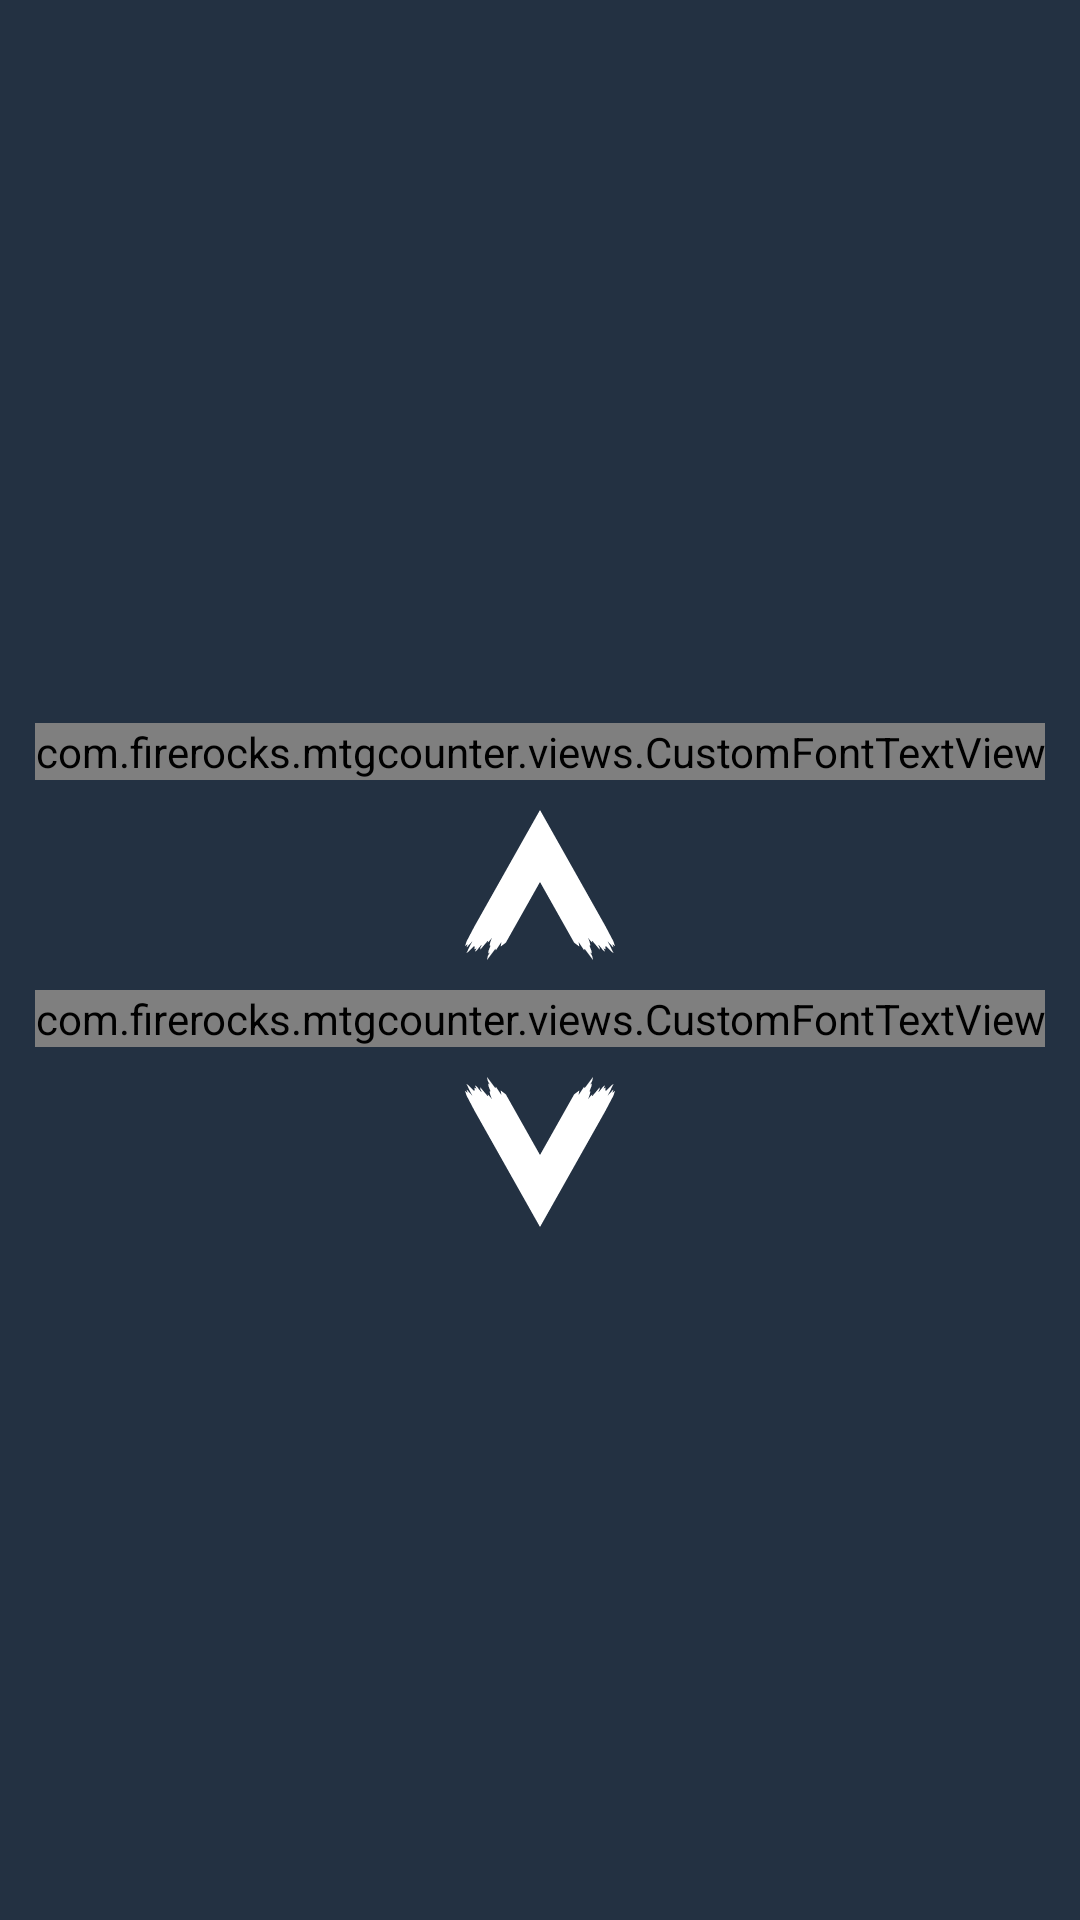

Icons on this 1080*1920 Android screen, each with its box as (left=x1, top=y1, right=x2, bottom=y2):
mtg chevron down: (left=465, top=1077, right=615, bottom=1227)
mtg chevron up: (left=465, top=810, right=615, bottom=960)
